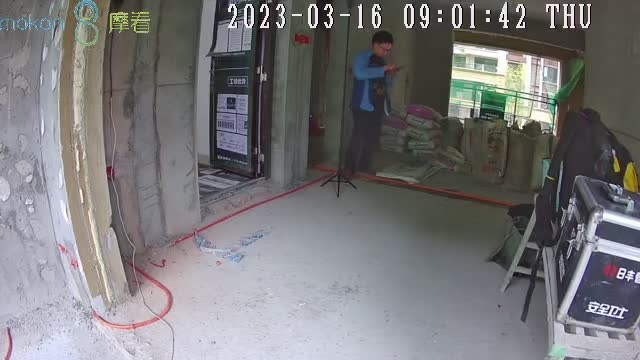people: (342, 30, 396, 183)
window: (446, 42, 561, 137)
